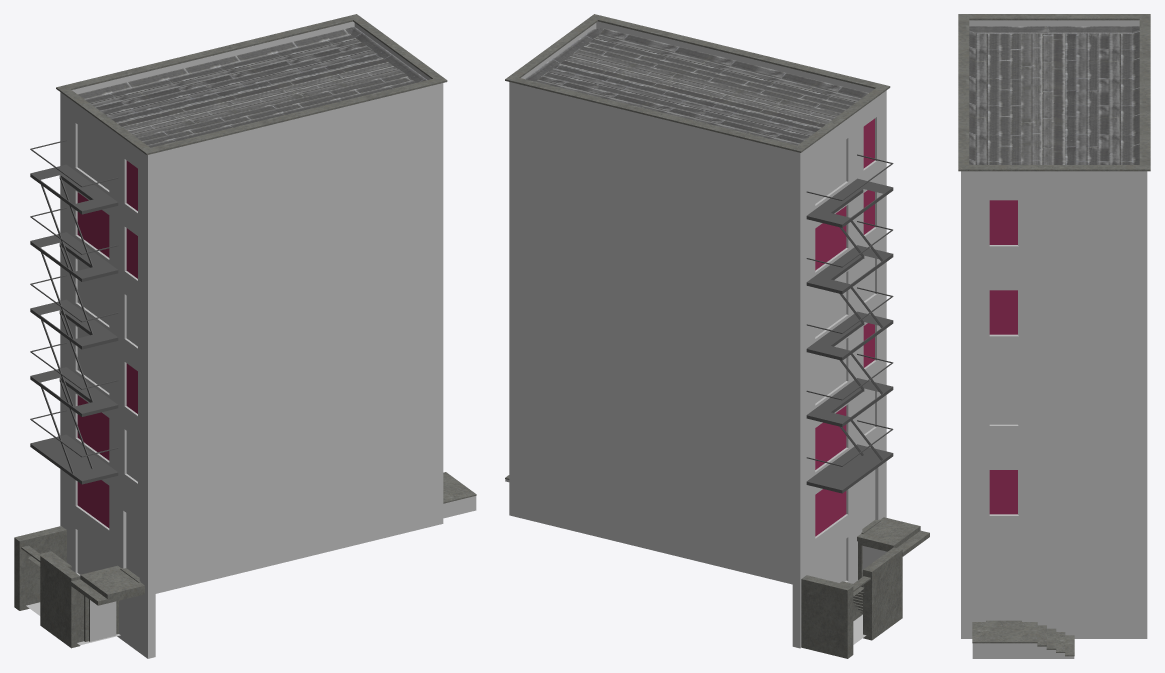
The model's file is mcp_building_14_LOD_1.FBX.
3 views of the same model, side by side, from view 1: azimuth 30°, elevation 25°; view 2: azimuth 150°, elevation 25°; view 3: azimuth 270°, elevation 25° (orthographic). The views are drawn at different scales.
Visible parts, largest first — view 1: mcp_building_14_walls, mcp_building_14_roof, mcp_building_14_concrete_01, mcp_building_14, mcp_building_14_props_01; view 2: mcp_building_14_walls, mcp_building_14_roof, mcp_building_14_concrete_01, mcp_building_14, mcp_building_14_props_01; view 3: mcp_building_14_walls, mcp_building_14_roof, mcp_building_14_concrete_01, mcp_building_14, mcp_building_14_door, mcp_building_14_concrete_03.
Part boxes in pixels (x1=…): mcp_building_14_walls: x1=60, y1=21, x2=443, y2=658; mcp_building_14_roof: x1=78, y1=26, x2=427, y2=147; mcp_building_14_concrete_01: x1=14, y1=14, x2=476, y2=648; mcp_building_14: x1=77, y1=125, x2=139, y2=641; mcp_building_14_props_01: x1=30, y1=140, x2=118, y2=484; mcp_building_14_walls: x1=509, y1=21, x2=886, y2=648; mcp_building_14_roof: x1=525, y1=28, x2=868, y2=145; mcp_building_14_concrete_01: x1=505, y1=14, x2=929, y2=658; mcp_building_14: x1=815, y1=118, x2=887, y2=582; mcp_building_14_props_01: x1=806, y1=154, x2=893, y2=493; mcp_building_14_walls: x1=961, y1=20, x2=1147, y2=638; mcp_building_14_roof: x1=969, y1=26, x2=1139, y2=164; mcp_building_14_concrete_01: x1=958, y1=14, x2=1150, y2=658; mcp_building_14: x1=989, y1=200, x2=1017, y2=514; mcp_building_14_door: x1=986, y1=560, x2=1021, y2=620; mcp_building_14_concrete_03: x1=985, y1=245, x2=1022, y2=559.
Size of the model in its own units: 1969 by 2501 by 811.
